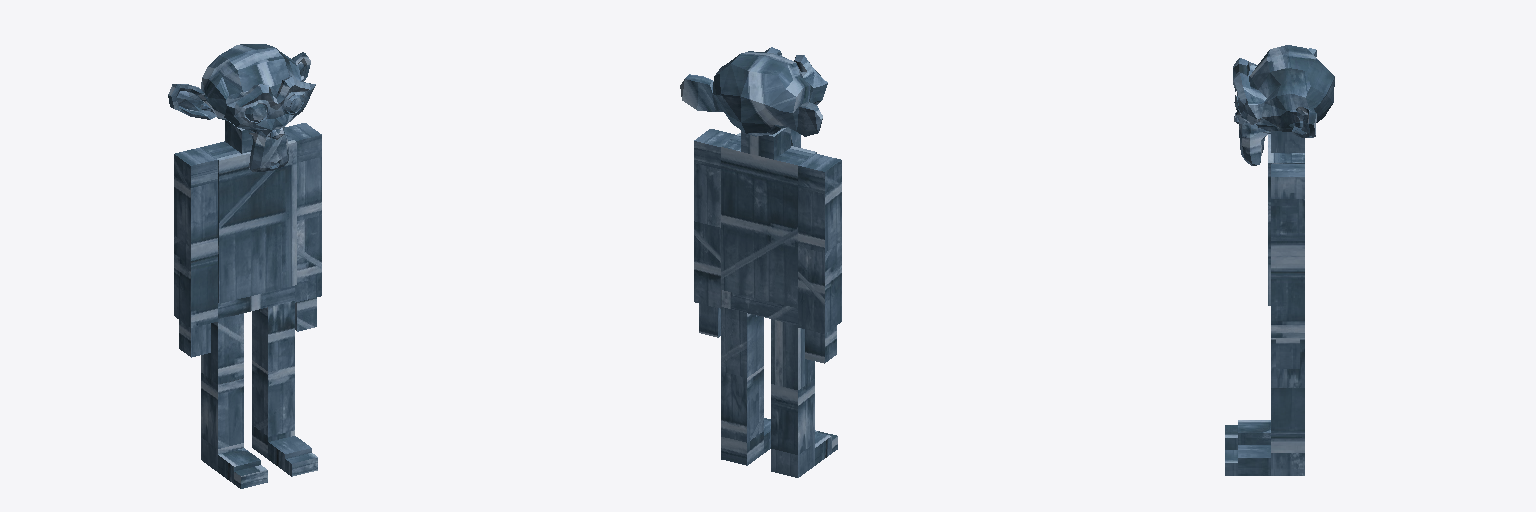
The picture shows the model from 3 angles: view 1: azimuth 30°, elevation 25°; view 2: azimuth 150°, elevation 25°; view 3: azimuth 270°, elevation 25°; orthographic projection.
Visible parts, largest first — view 1: Cube.020_Cube.026; view 2: Cube.020_Cube.026; view 3: Cube.020_Cube.026.
Boxes of the visible parts, box(x1,y1,x2,y2) form: Cube.020_Cube.026: box(168, 44, 321, 488); Cube.020_Cube.026: box(680, 47, 841, 477); Cube.020_Cube.026: box(1225, 45, 1334, 475).
Bounding box in the file's own units: 0.5742 × 1.57 × 0.3863.
Materials: 1 (1 with a texture image).